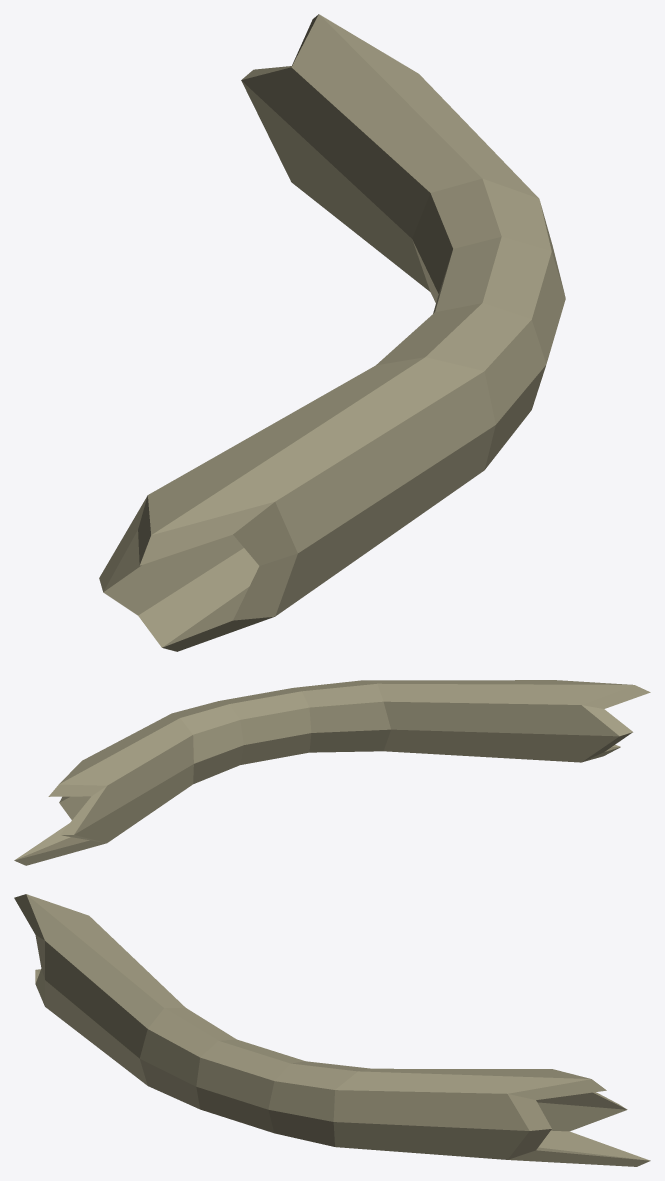
Rendered from dragons_mini_bones2.fbx.
3 views of the same model, one above another, from view 1: azimuth 30°, elevation 25°; view 2: azimuth 150°, elevation 25°; view 3: azimuth 270°, elevation 25° (orthographic). The views are drawn at different scales.
Visible parts, largest first — view 1: Cube.018; view 2: Cube.018; view 3: Cube.018.
Boxes of the visible parts, x1,y1,x2,y2 form: Cube.018: (99, 14, 565, 651); Cube.018: (14, 680, 650, 865); Cube.018: (14, 894, 650, 1166).
Size of the model in its own units: 396 by 73.38 by 525.
